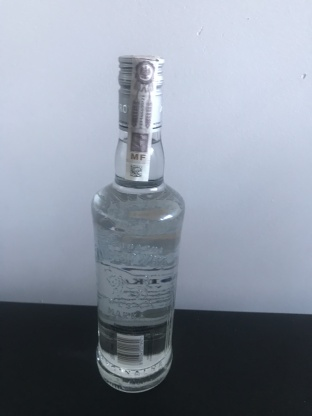nakretka: (114, 51, 167, 135), (112, 45, 117, 60)
